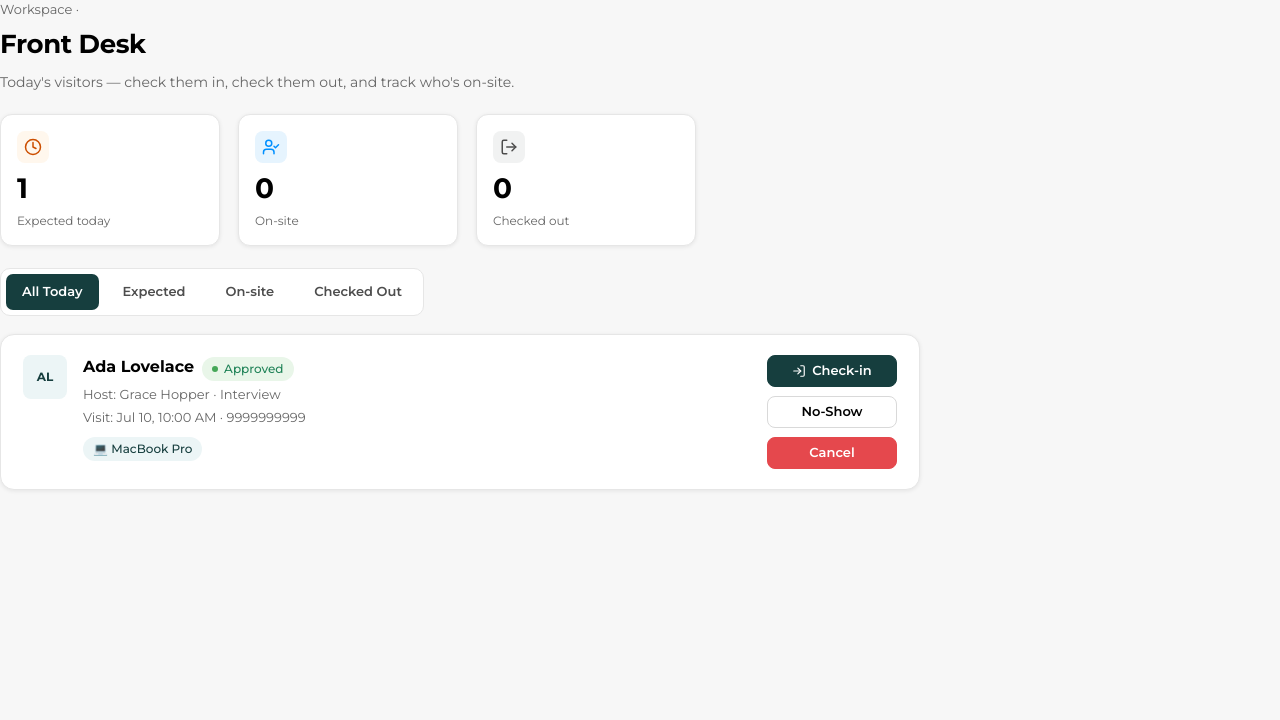
Test: Check-in opens the signature pad, and Cancel closes it without checking in
Expected: the text "Ada Lovelace" is shown, x1=83 y1=355 x2=194 y2=379
Click the button "Check-in" at (832, 371), box x1=767 y1=355 x2=897 y2=387
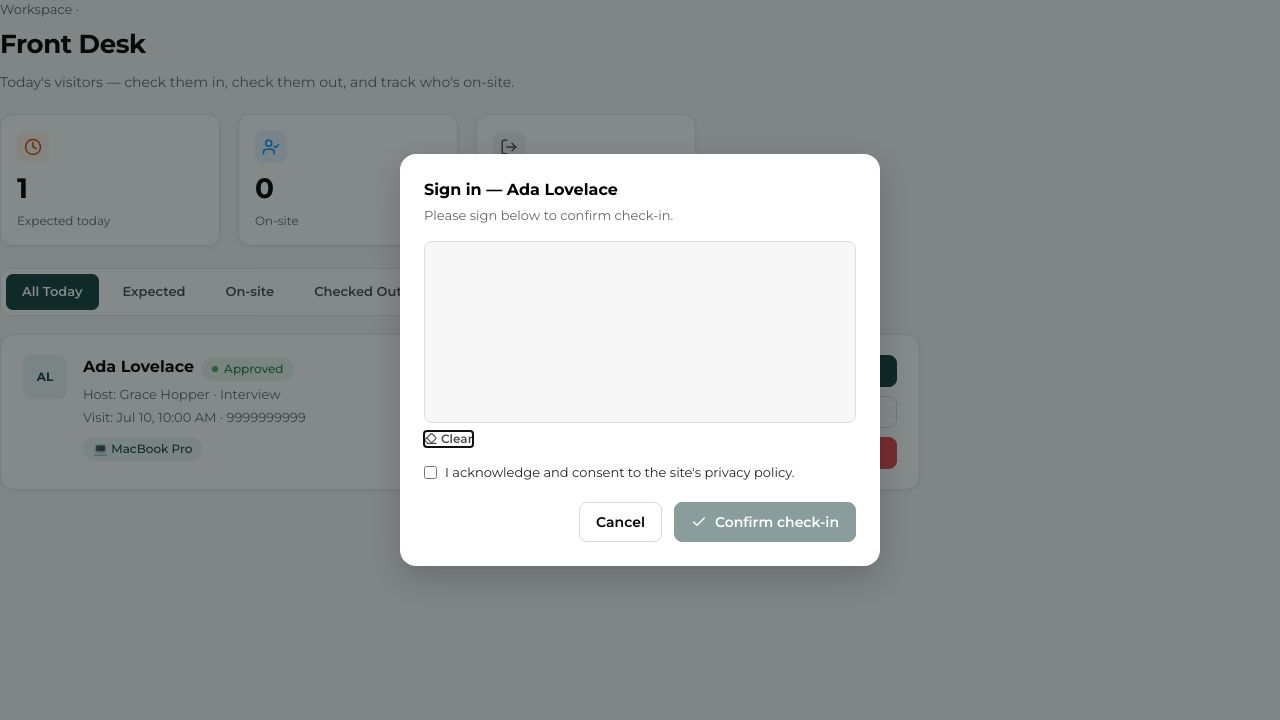
Now the text "Sign in — Ada Lovelace" is shown, box x1=424 y1=180 x2=618 y2=199
Note: "Cancel" also matches the row's own danger Cancel-visit button — scope to the modal.
Click the button "Cancel" at (621, 522), box x1=579 y1=502 x2=662 y2=542
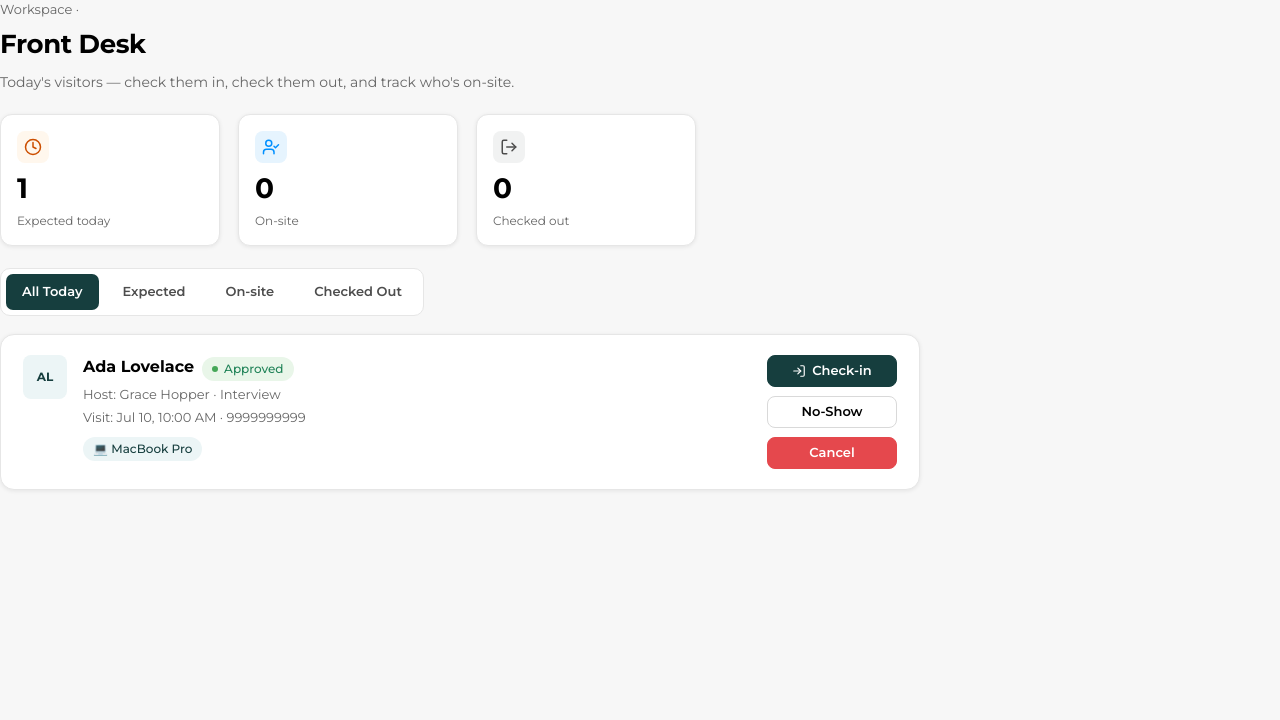
Now the text "Sign in — Ada Lovelace" is gone
